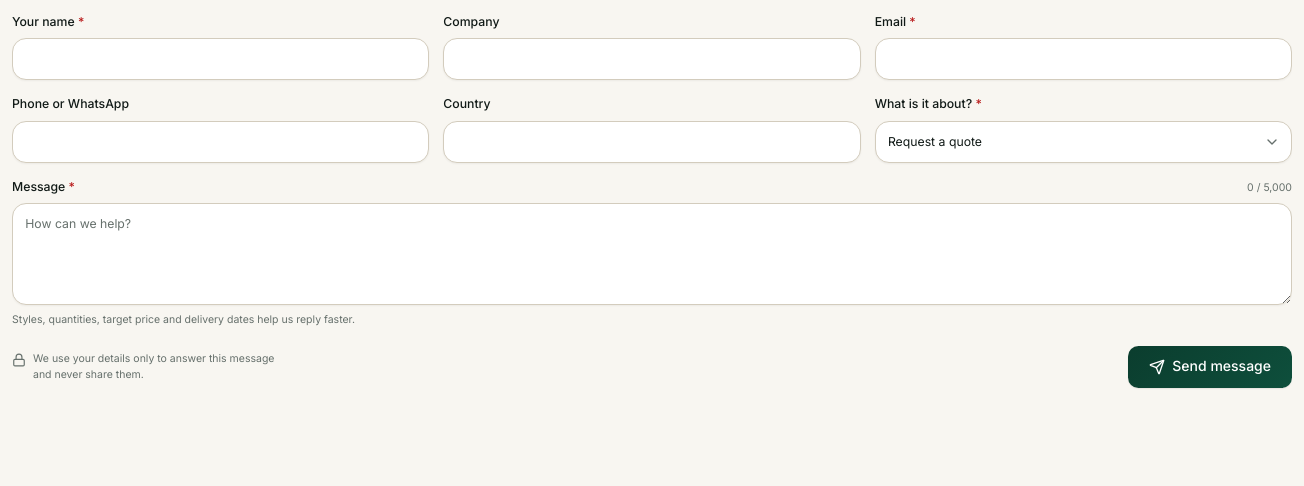
Scenario: ContactForm › explains a failure and offers the email address instead
Type "Anna Berg" into the field labelled "Your name *" at (221, 59), box [12,38,429,80]
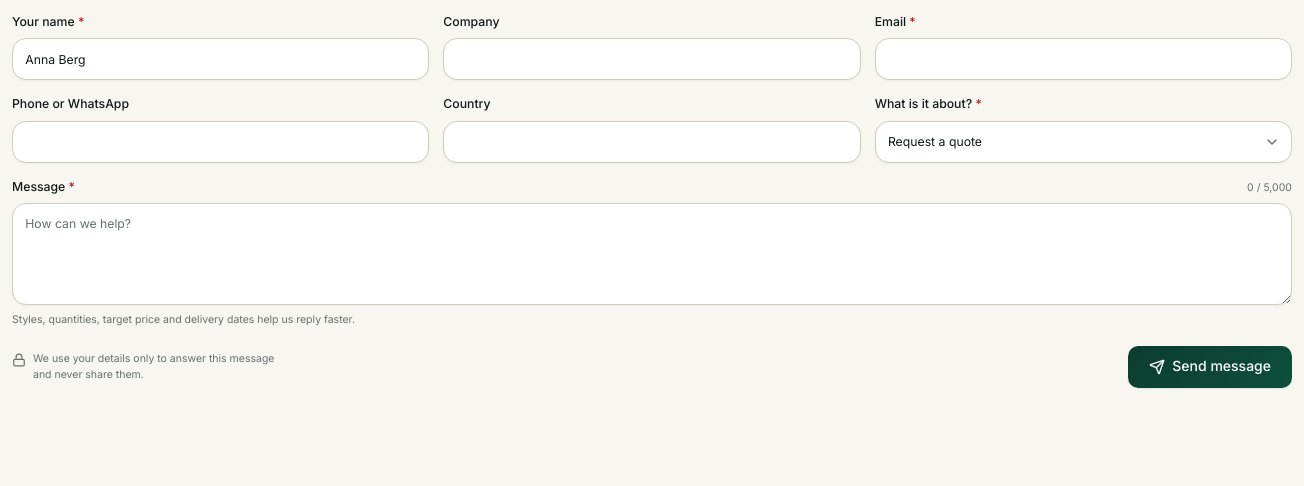
Type "anna@example.com" into the field labelled "Email *" at (1083, 59), box [875,38,1292,80]
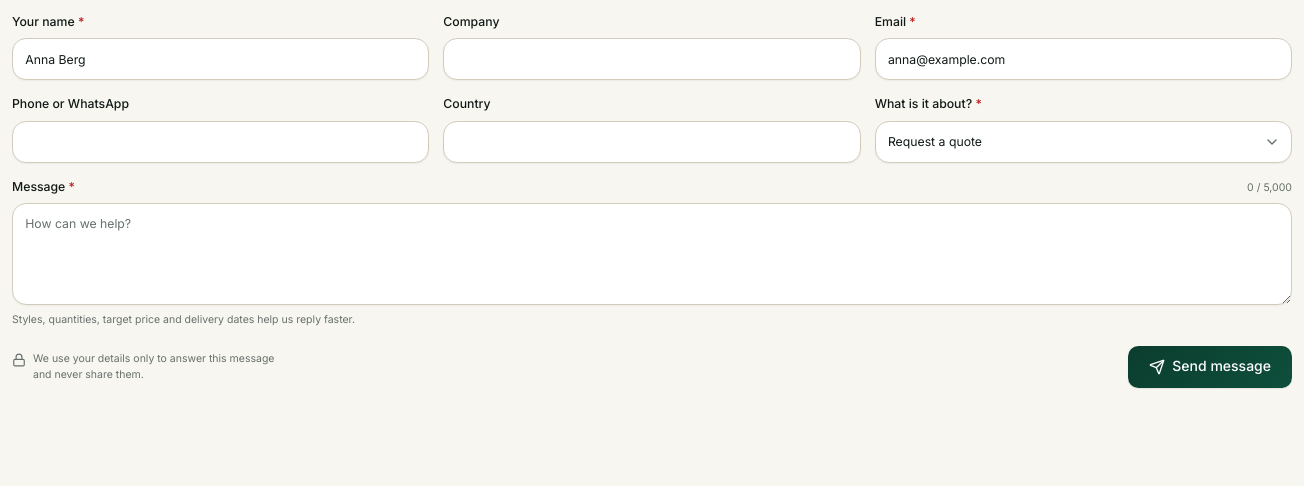
Type "We need 5,000 pcs of the jersey tee by March." into the text box labelled "Message *" at (652, 254), box [12,203,1292,305]
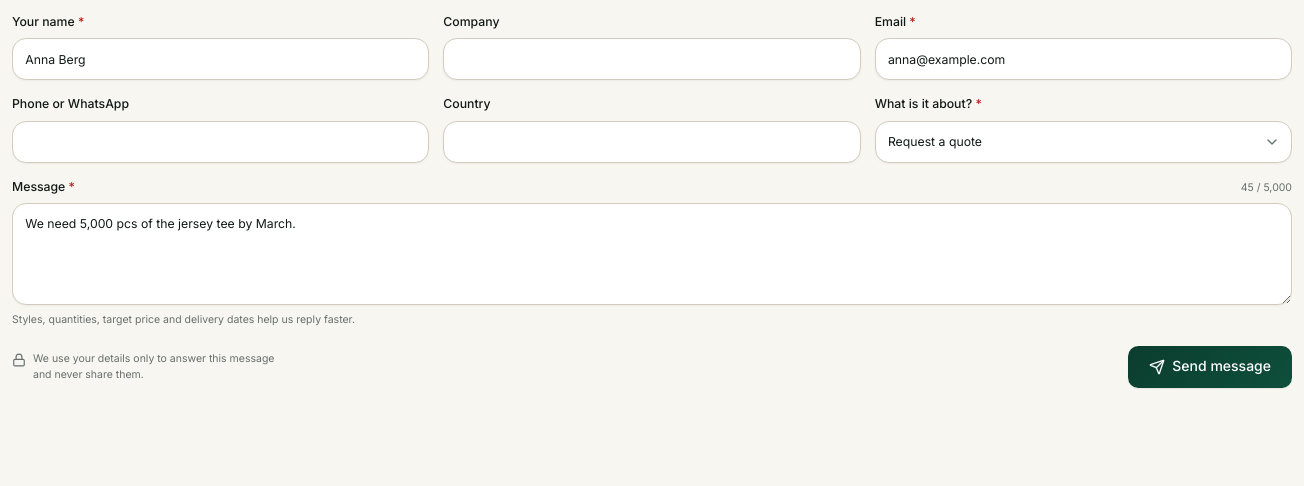
Click the button "Send message" at (1210, 367), box [1128,346,1292,388]
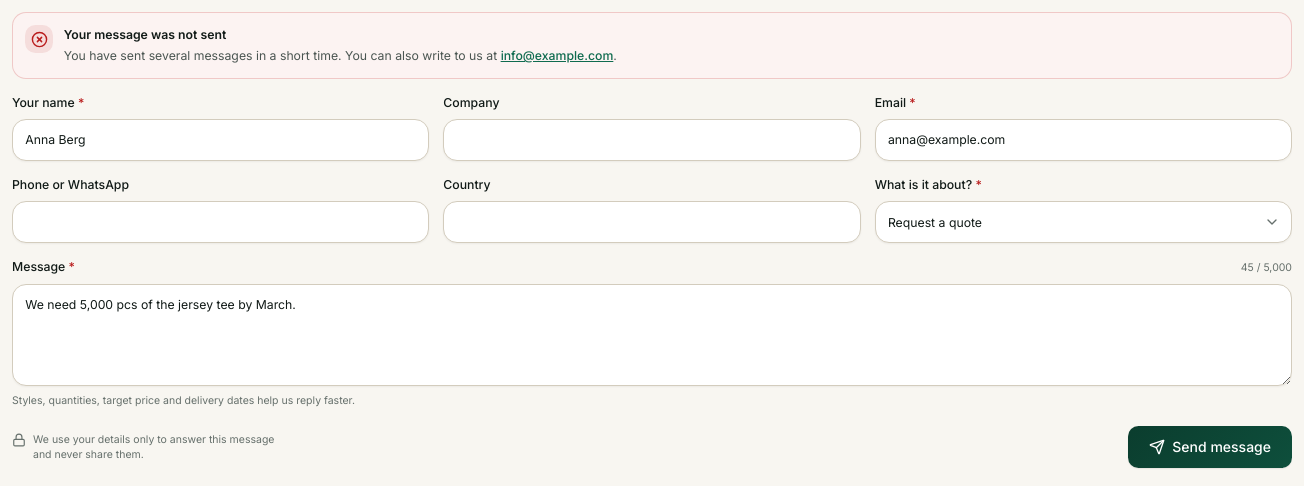
Expected: the text "Your message was not sent" is shown, [64,27,226,42]
Expected: the text "several messages in a short time" is shown, [64,48,342,63]
Expected: the link "info@example.com" is shown, [501,48,613,63]
